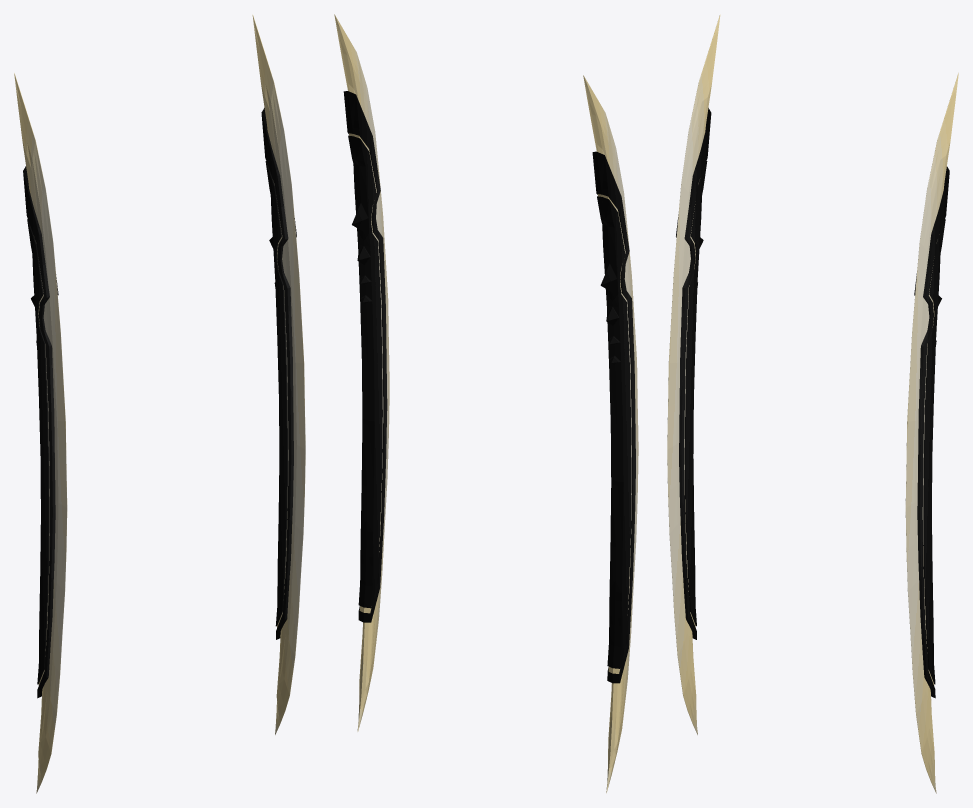
The model's file is moonless.glb.
3 views of the same model, side by side, from view 1: azimuth 30°, elevation 25°; view 2: azimuth 150°, elevation 25°; view 3: azimuth 330°, elevation 25° (orthographic). The views are drawn at different scales.
Visible parts, largest first — view 1: off__Tool_L, main__Tool_R; view 2: off__Tool_L, main__Tool_R; view 3: main__Tool_R, off__Tool_L.
Part boxes in pixels (left/top/right/bottom): off__Tool_L: left=14, top=73, right=67, bottom=793; main__Tool_R: left=252, top=14, right=305, bottom=734; off__Tool_L: left=583, top=75, right=638, bottom=793; main__Tool_R: left=334, top=14, right=389, bottom=731; main__Tool_R: left=905, top=73, right=958, bottom=793; off__Tool_L: left=667, top=14, right=720, bottom=734.
Bounding box in the file's own units: 0.8669 × 2.33 × 0.3182.
Materials: 1 (1 with a texture image).
